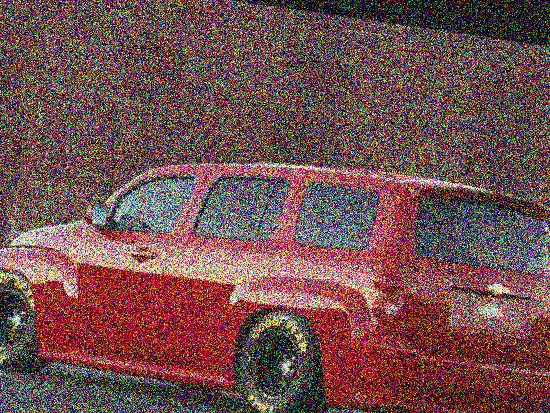car: (0, 99, 550, 413)
